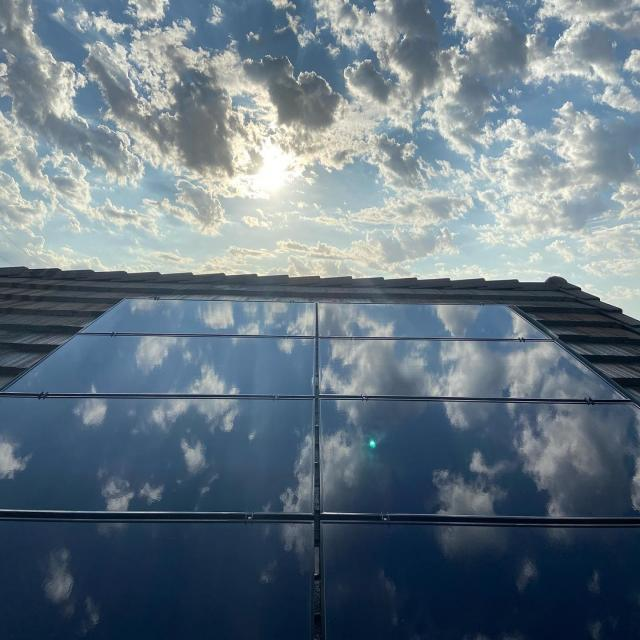no faulty: (0, 396, 312, 516), (319, 400, 640, 516), (2, 522, 317, 640), (322, 523, 635, 640), (322, 339, 626, 401), (3, 334, 313, 393), (83, 300, 314, 338), (320, 301, 551, 338)
